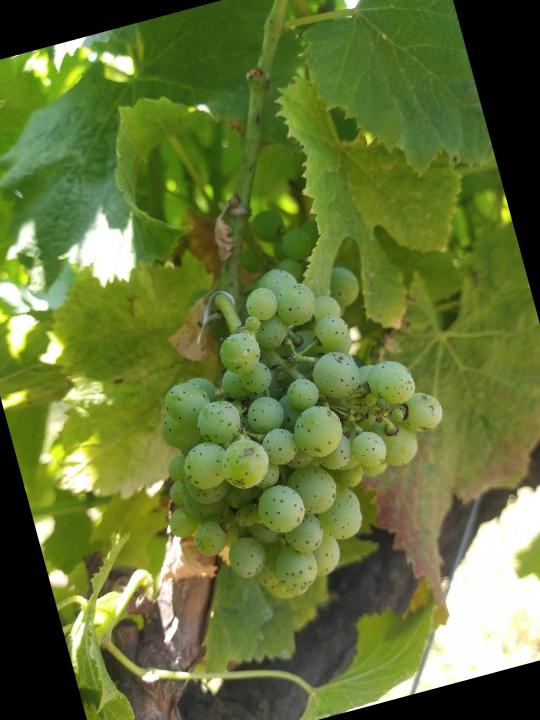grape: (112, 235, 481, 626)
